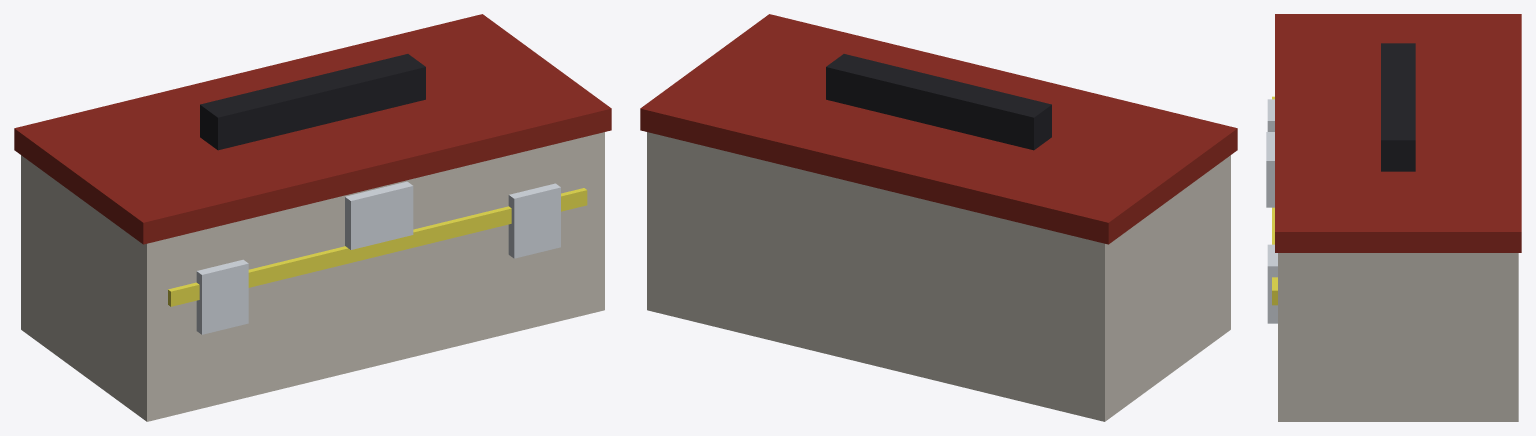
The model's file is toolbox.glb.
3 renders of one model, left to right at view 1: azimuth 30°, elevation 25°; view 2: azimuth 150°, elevation 25°; view 3: azimuth 270°, elevation 25°, orthographic. The views are drawn at different scales.
Visible parts, largest first — view 1: toolbox; view 2: toolbox; view 3: toolbox.
Part boxes in pixels (box(x1,y1,x2,y2)): toolbox: box(14, 14, 611, 421); toolbox: box(640, 14, 1237, 421); toolbox: box(1266, 14, 1521, 421).
Size of the model in its own units: 0.45 by 0.215 by 0.2225.
